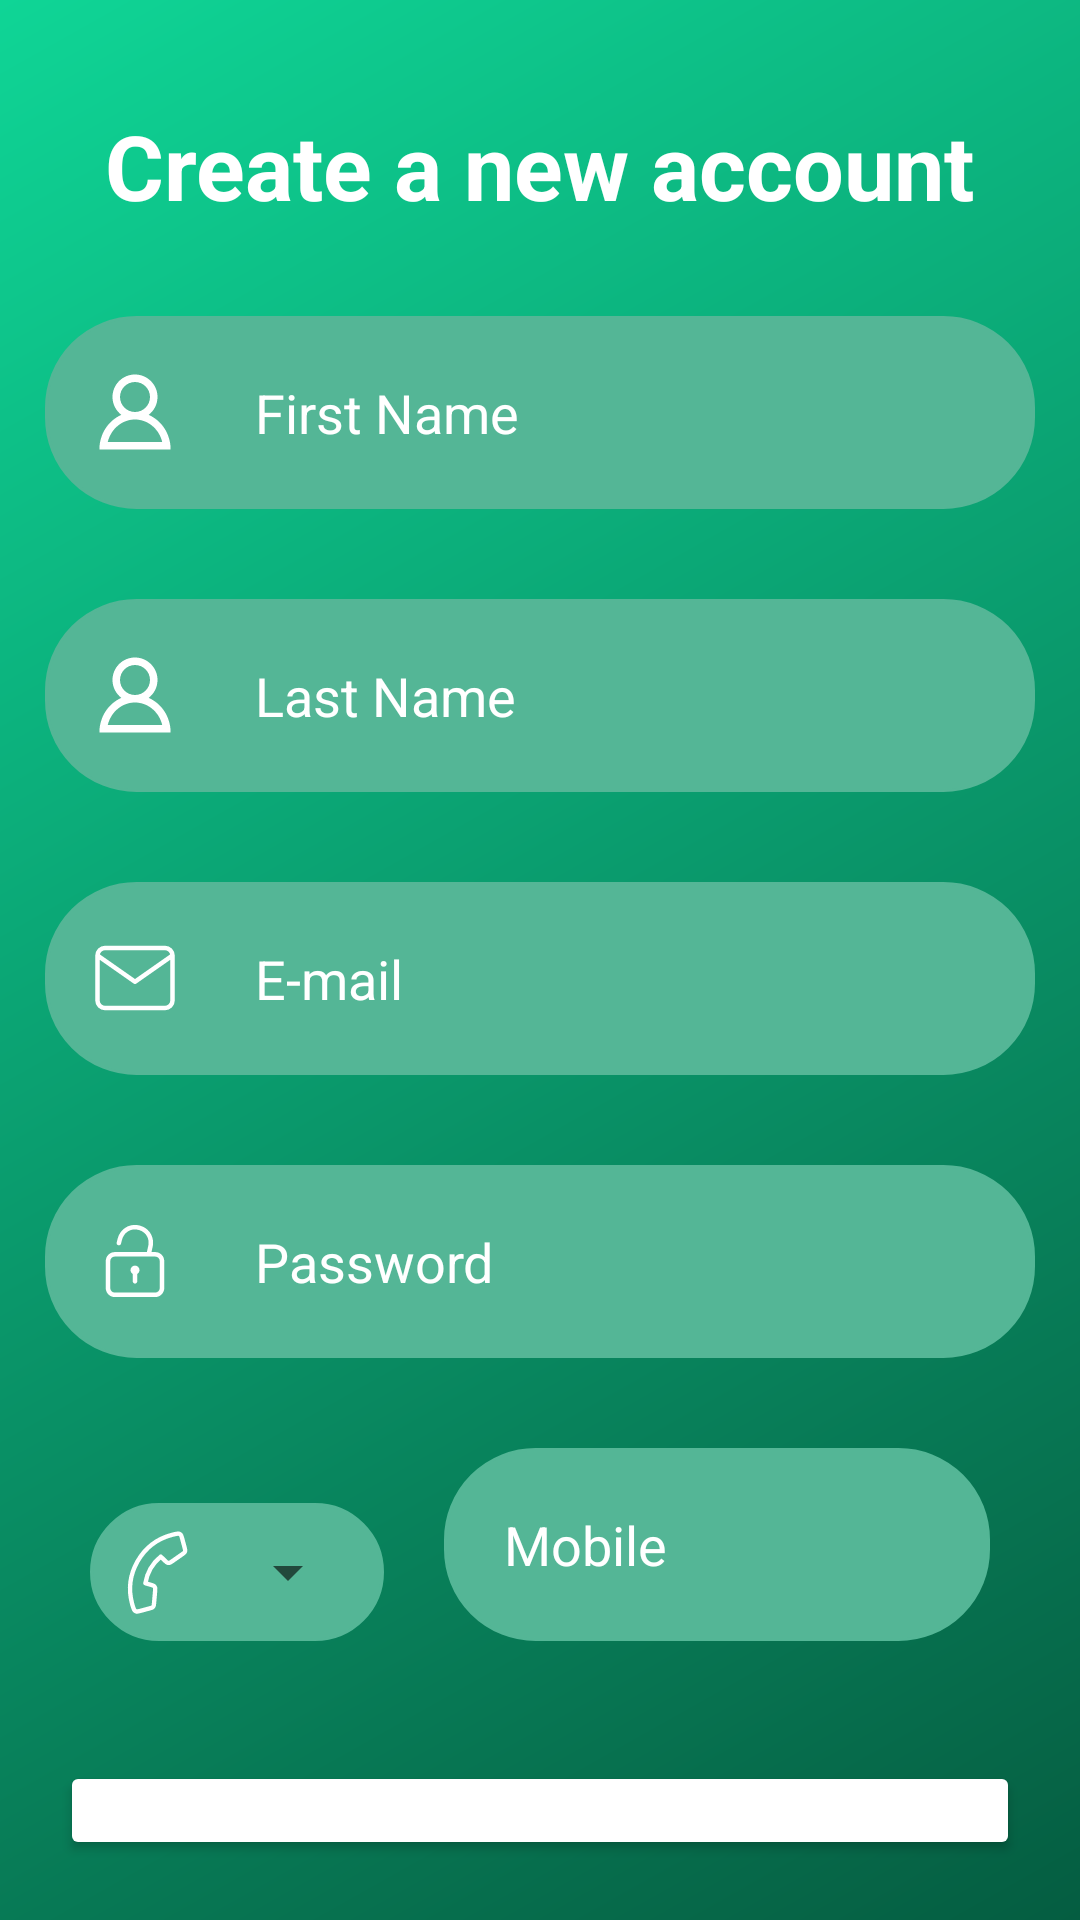

Named icons in this screenshot (1080w x 1920h) and their centers, (x,y):
lock open: (135,1261)
phone: (158,1572)
